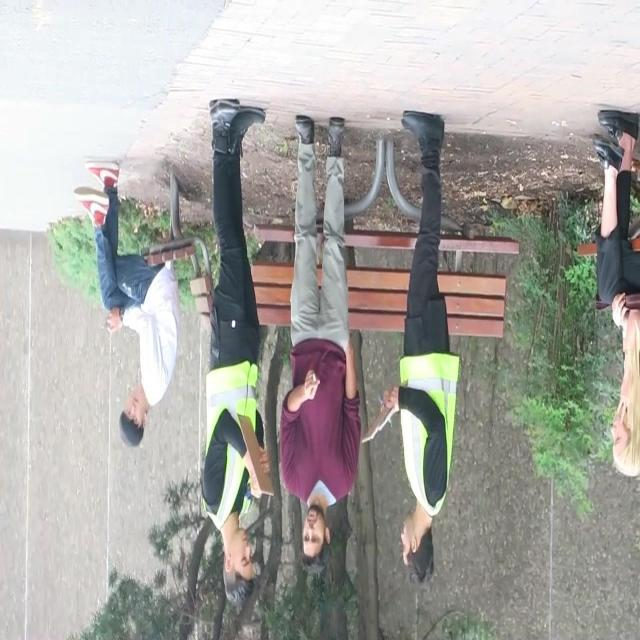jacket: (186, 358, 272, 538), (394, 348, 462, 518)
